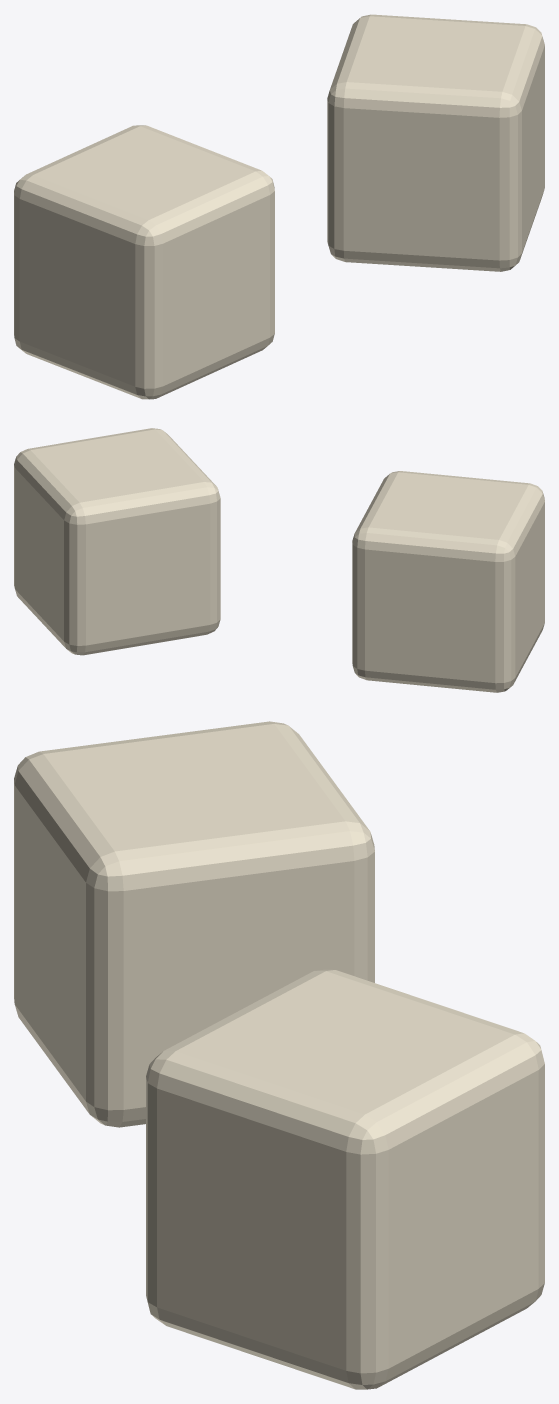
The model's file is rune_item_bone_dice.glb.
3 views of the same model, one above another, from view 1: azimuth 30°, elevation 25°; view 2: azimuth 150°, elevation 25°; view 3: azimuth 270°, elevation 25° (orthographic). The views are drawn at different scales.
Parts seen in each view (by area): view 1: GD_rune_item_bone_dice__m0; view 2: GD_rune_item_bone_dice__m0; view 3: GD_rune_item_bone_dice__m0.
Boxes of the visible parts, left/top/right/bottom form: GD_rune_item_bone_dice__m0: left=14, top=14, right=544, bottom=399; GD_rune_item_bone_dice__m0: left=14, top=428, right=544, bottom=692; GD_rune_item_bone_dice__m0: left=14, top=721, right=544, bottom=1389.
Size of the model in its own units: 0.1304 by 0.04 by 0.0704.
